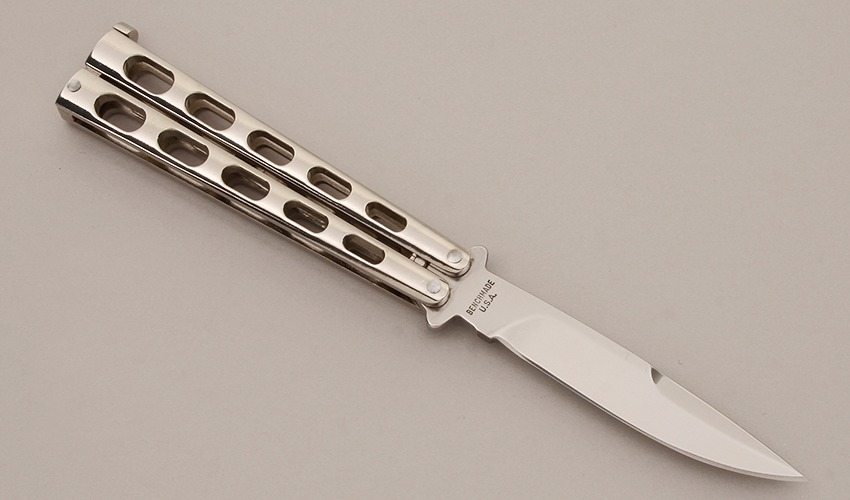knife: (53, 15, 817, 488)
